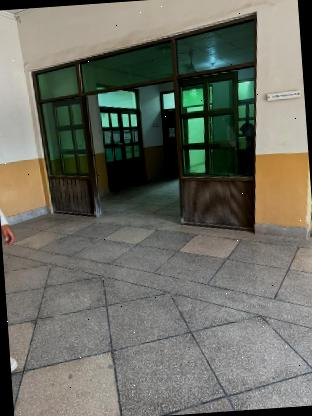door: (74, 24, 206, 244)
